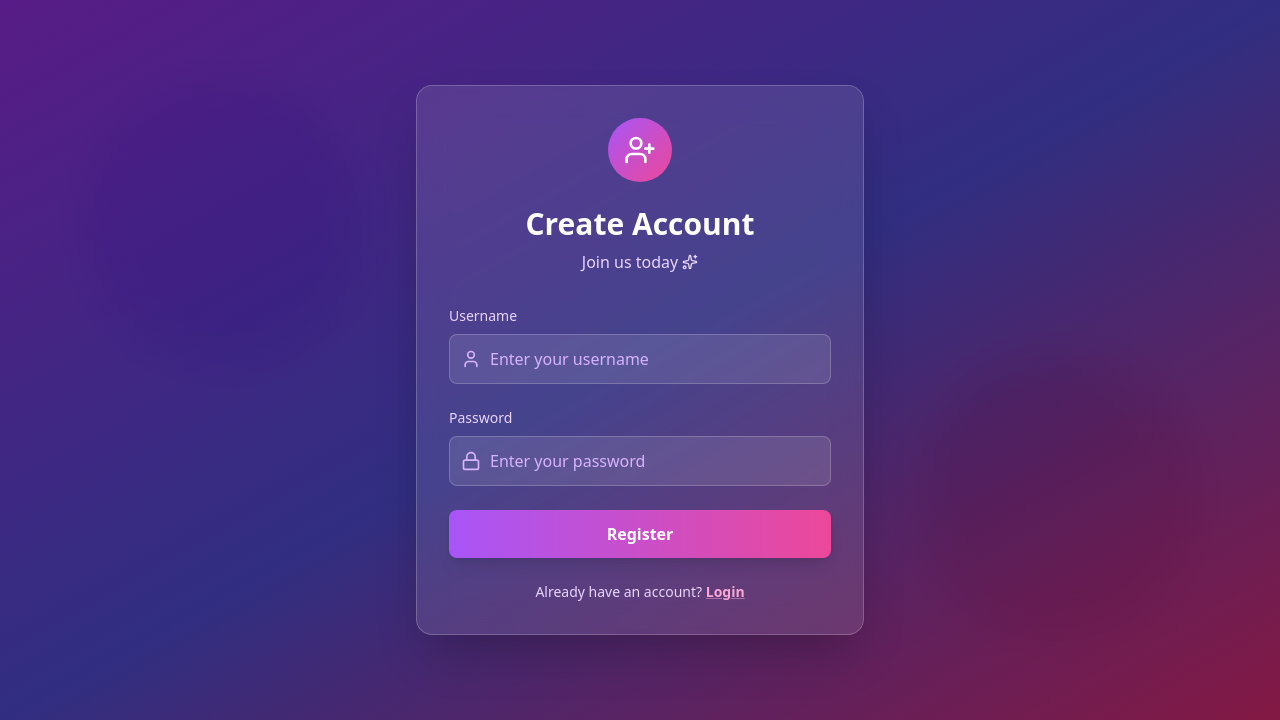
Register page › shows validation for empty required fields
Click the button "Register" at {"x": 640, "y": 534}, box [449,510,831,558]
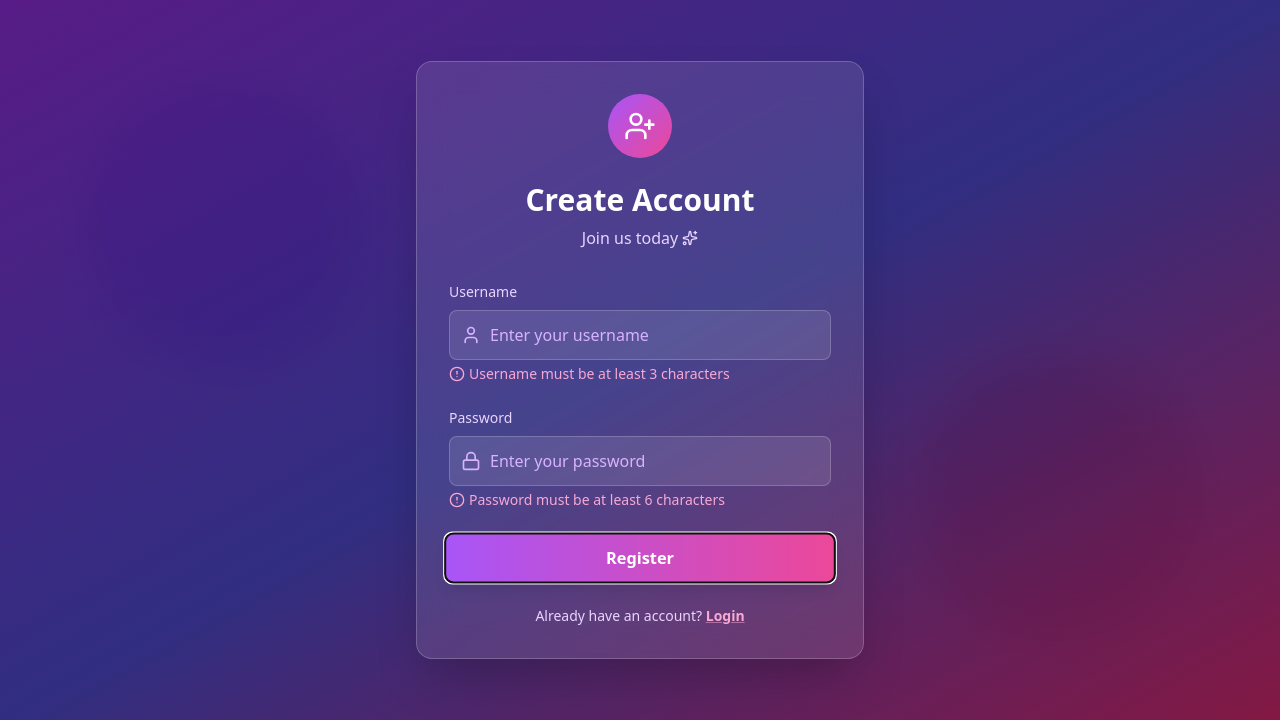
Expected: the text "Username must be at least 3 characters" is shown, [449,364,730,383]
Expected: the text "Password must be at least 6 characters" is shown, [449,490,725,509]
